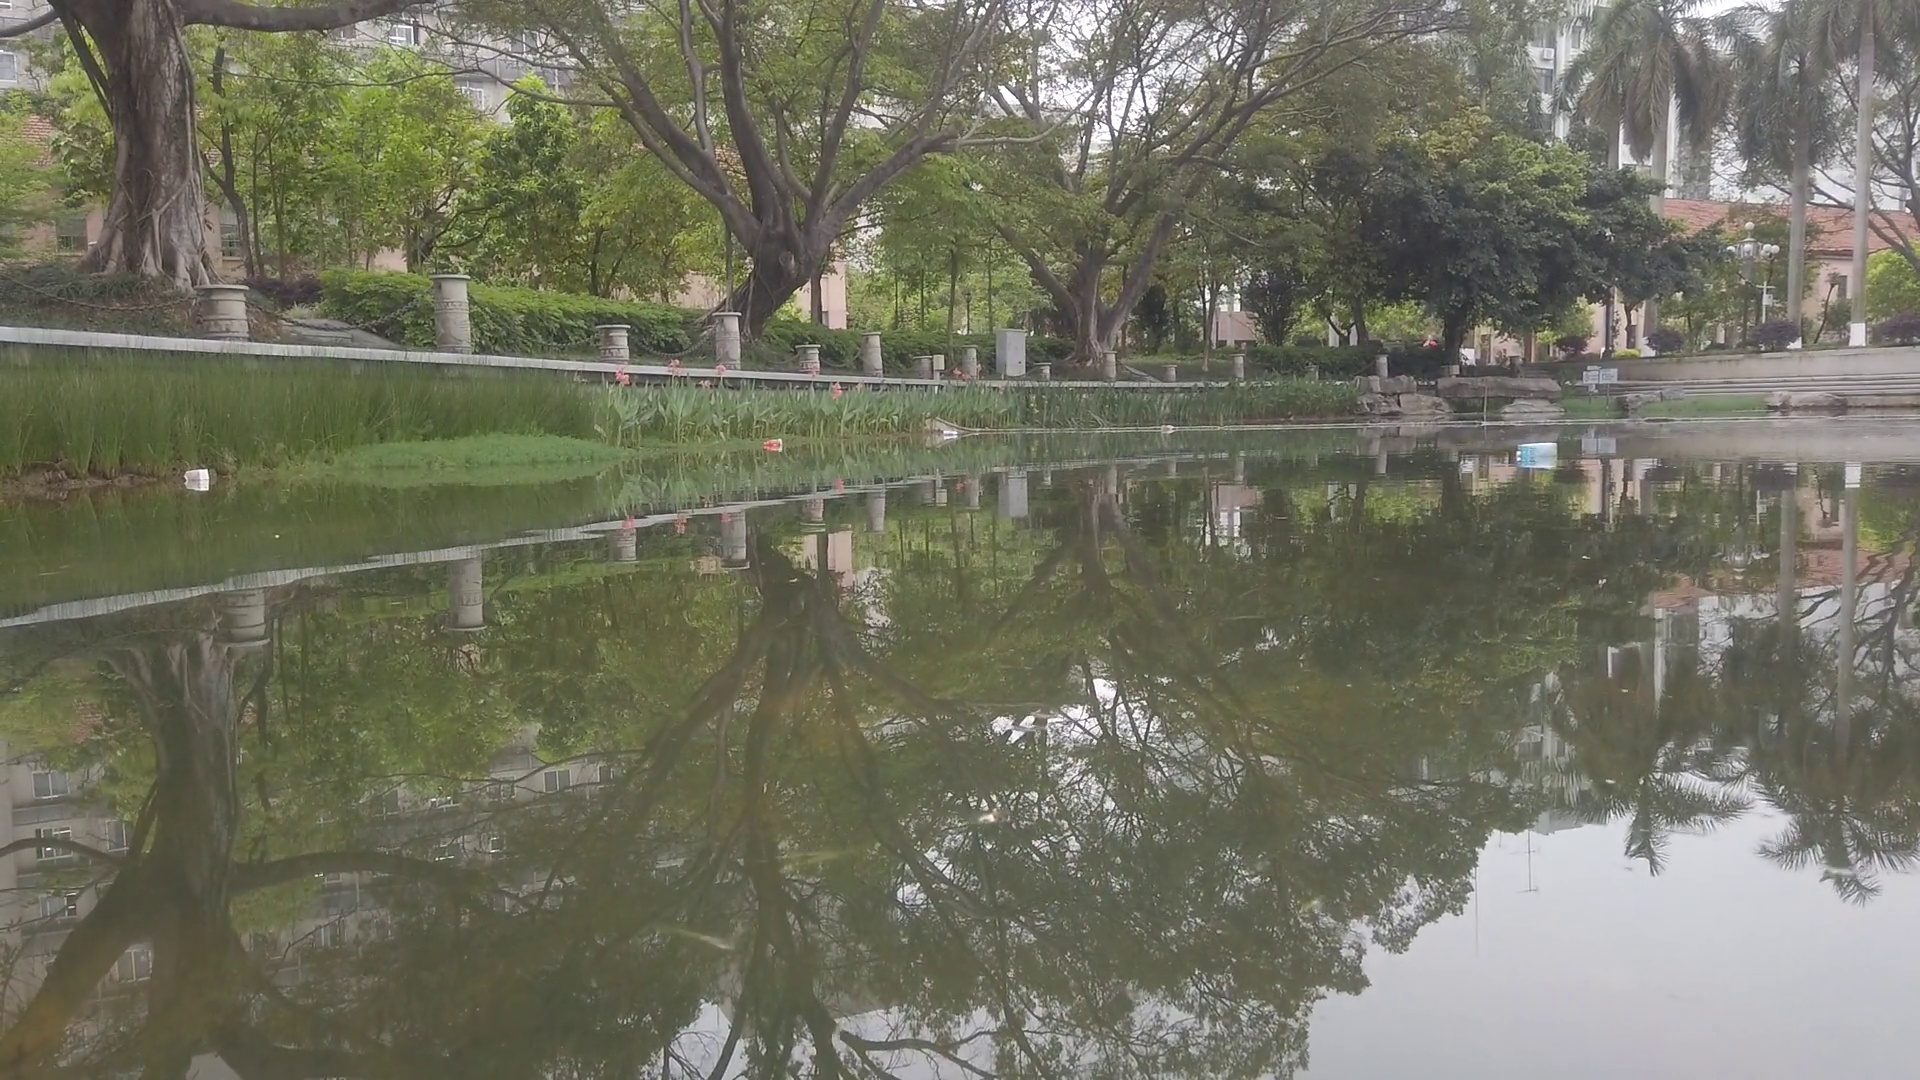bottle: (764, 436, 782, 450), (1160, 423, 1178, 433), (943, 429, 960, 436)
carton: (1518, 442, 1556, 462), (181, 468, 208, 483)
